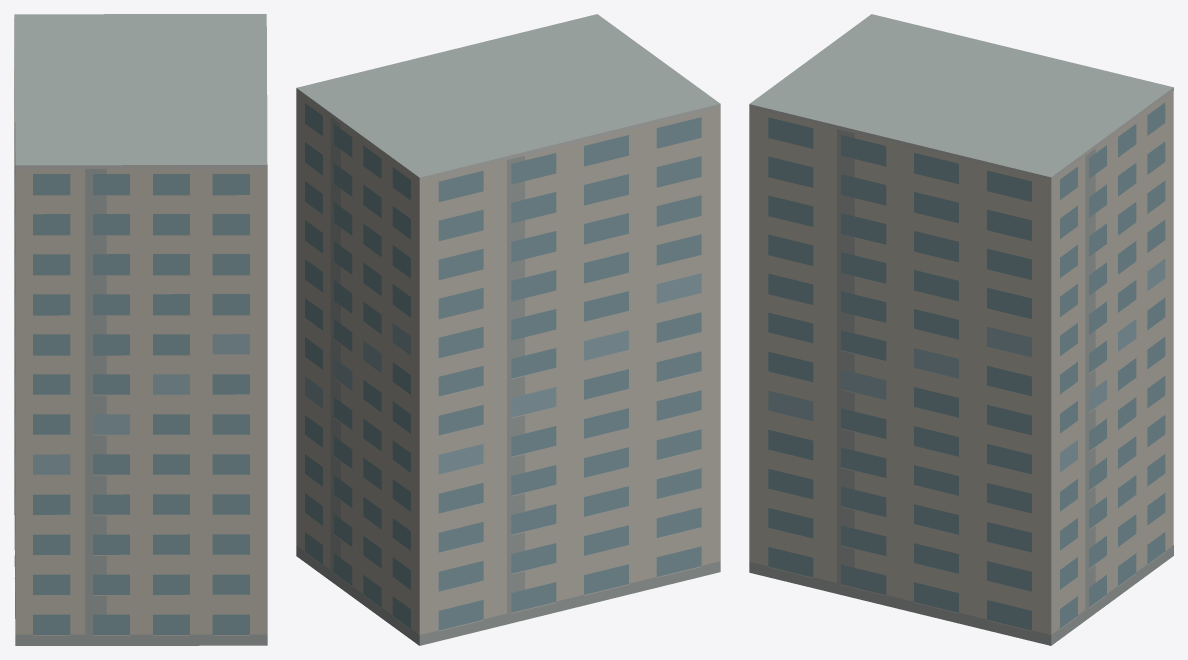
File: residential-131ff353-e904-4899-a369-6031a76a5356.glb
The picture shows the model from 3 angles, left to right: view 1: azimuth 30°, elevation 25°; view 2: azimuth 150°, elevation 25°; view 3: azimuth 270°, elevation 25°; orthographic projection. The views are drawn at different scales.
Visible parts, largest first — view 1: residential-131ff353-e904-4899-a369-6031a76a5356.tmp; view 2: residential-131ff353-e904-4899-a369-6031a76a5356.tmp; view 3: residential-131ff353-e904-4899-a369-6031a76a5356.tmp.
Boxes of the visible parts, left/top/right/bottom form: residential-131ff353-e904-4899-a369-6031a76a5356.tmp: left=14, top=14, right=267, bottom=645; residential-131ff353-e904-4899-a369-6031a76a5356.tmp: left=296, top=14, right=720, bottom=645; residential-131ff353-e904-4899-a369-6031a76a5356.tmp: left=749, top=14, right=1173, bottom=645.
Size of the model in its own units: 22.44 by 30 by 24.65.
